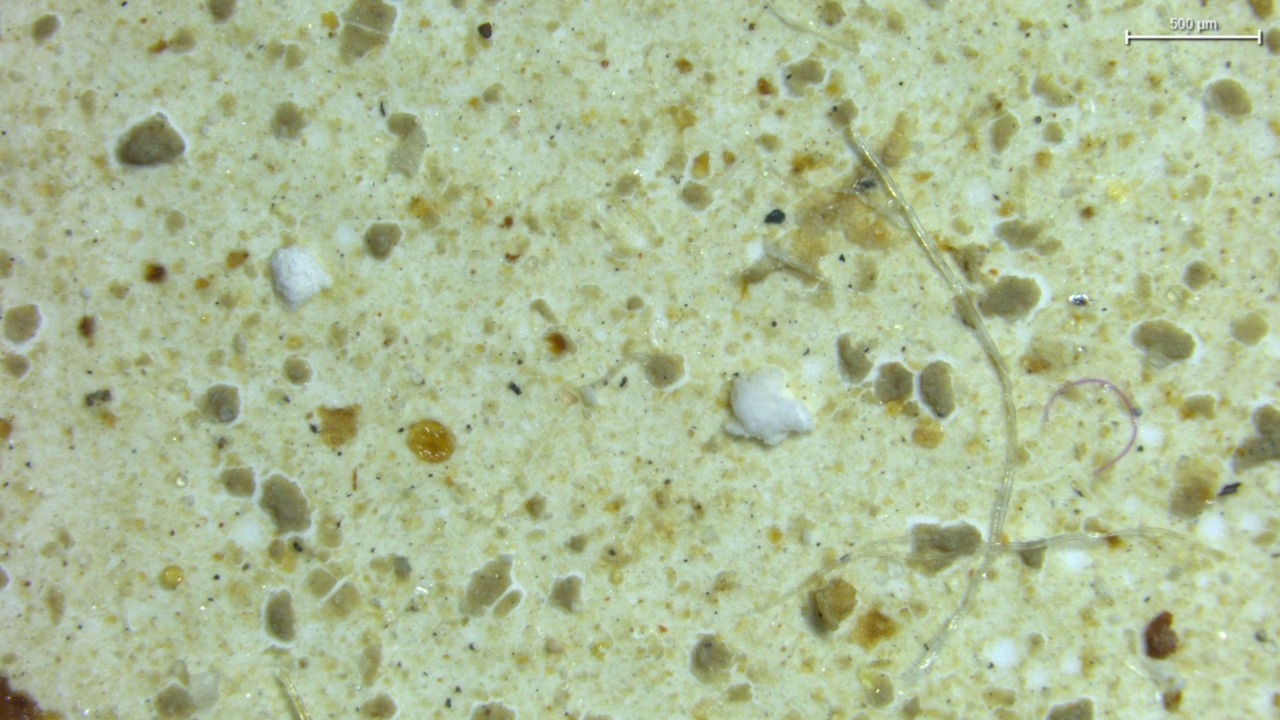microplastic_fragment: (726, 370, 814, 445), (269, 246, 330, 310), (809, 579, 857, 631)
